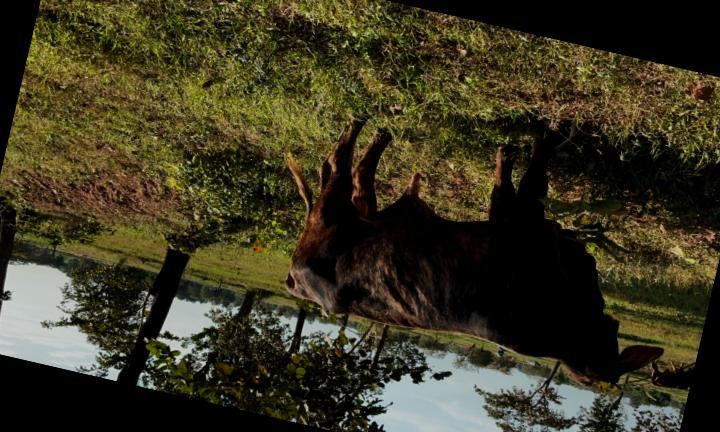Charolais: (286, 121, 662, 385)
